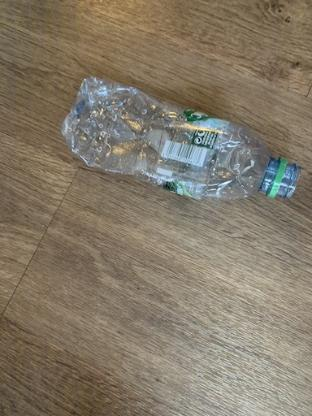Plastic Bottle: (46, 75, 304, 208)
